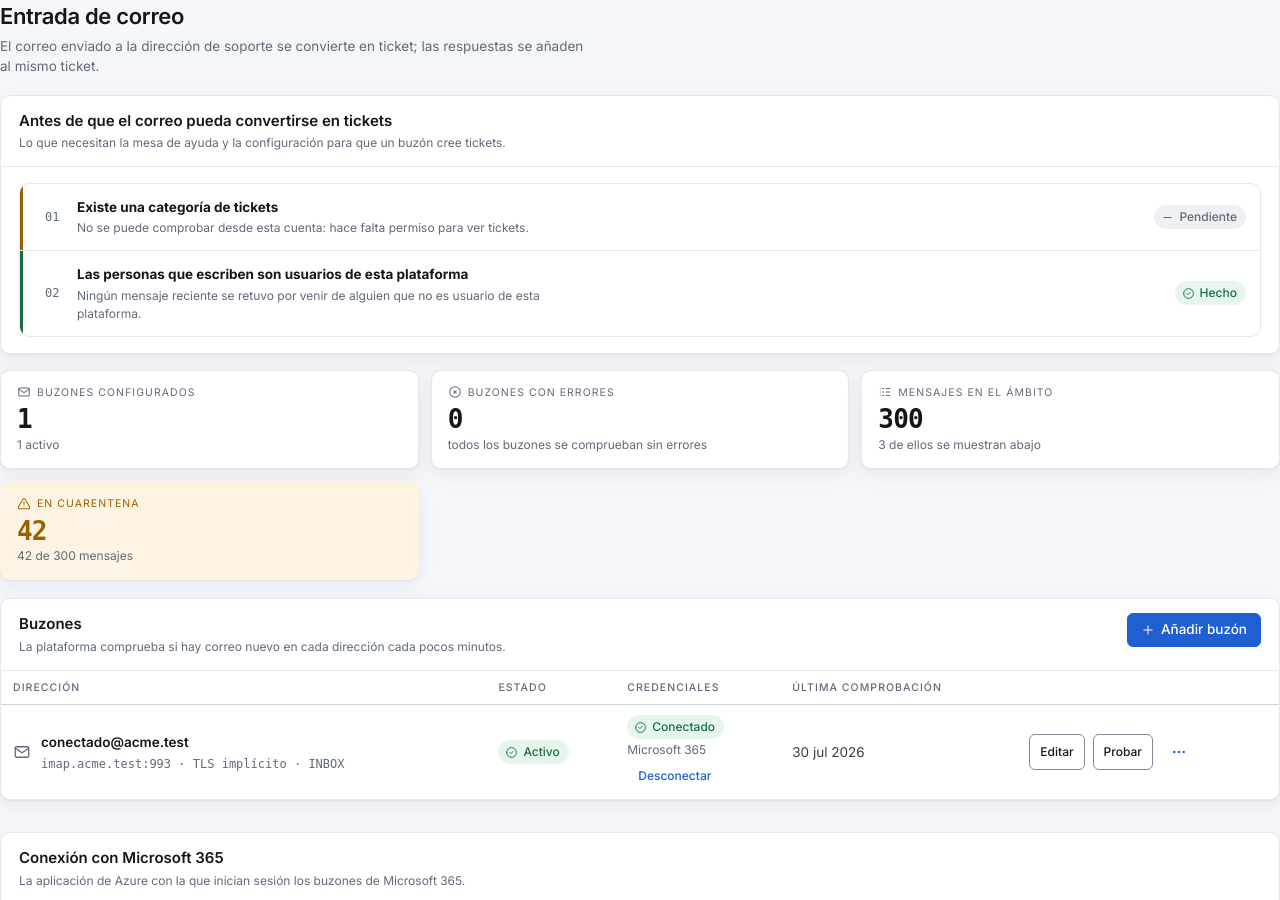
the mailbox list in Spanish › confirms a disconnect in Spanish
Click the button with aria-label "Desconectar: conectado@acme.test". click: click(675, 776)
box: top-left (627, 763), bottom-right (722, 789)
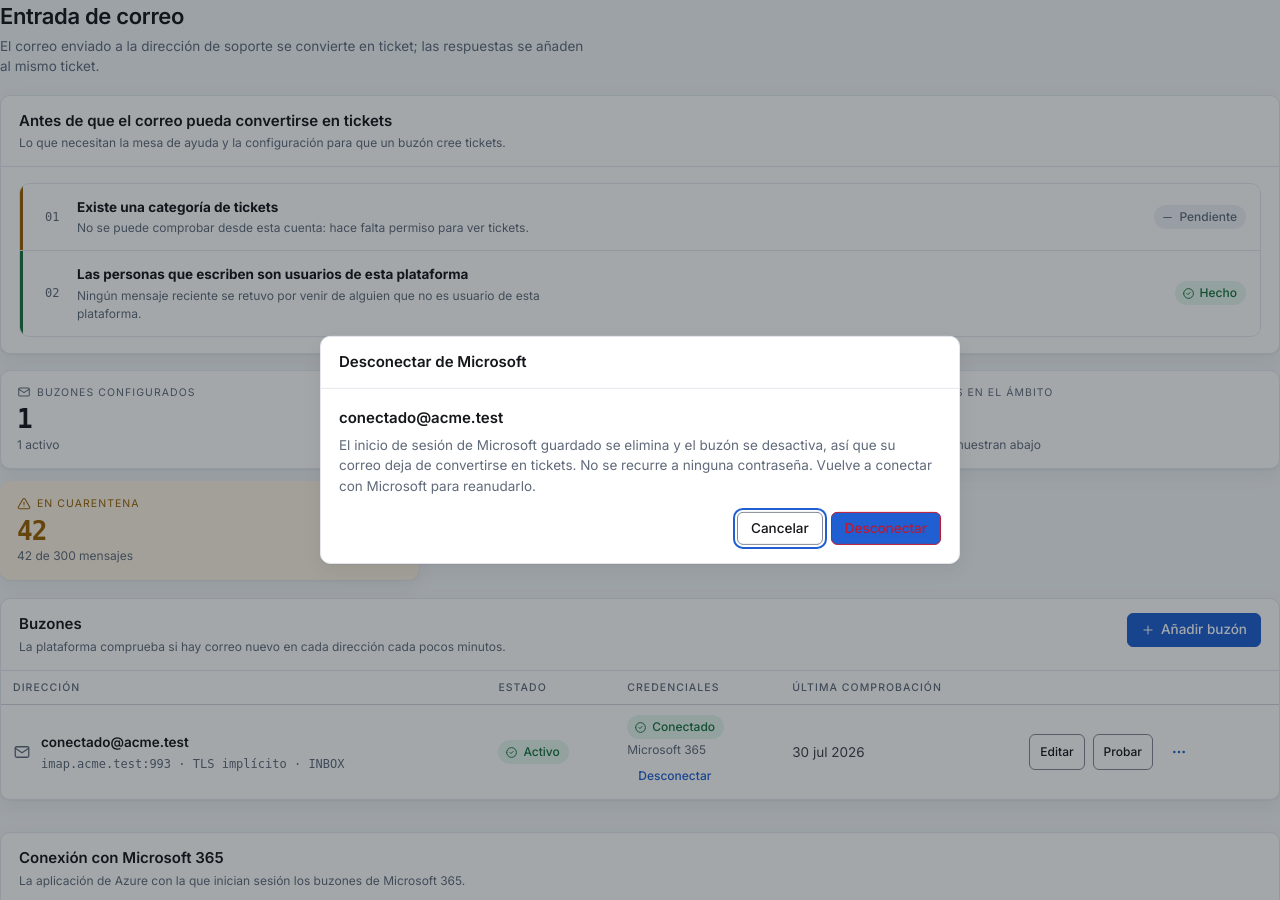
Now the text "El inicio de sesión de Microsoft guardado se elimina" is shown, box top-left (339, 437), bottom-right (932, 493)
Click the button "Desconectar". click: click(886, 528)
box: top-left (831, 512), bottom-right (941, 545)
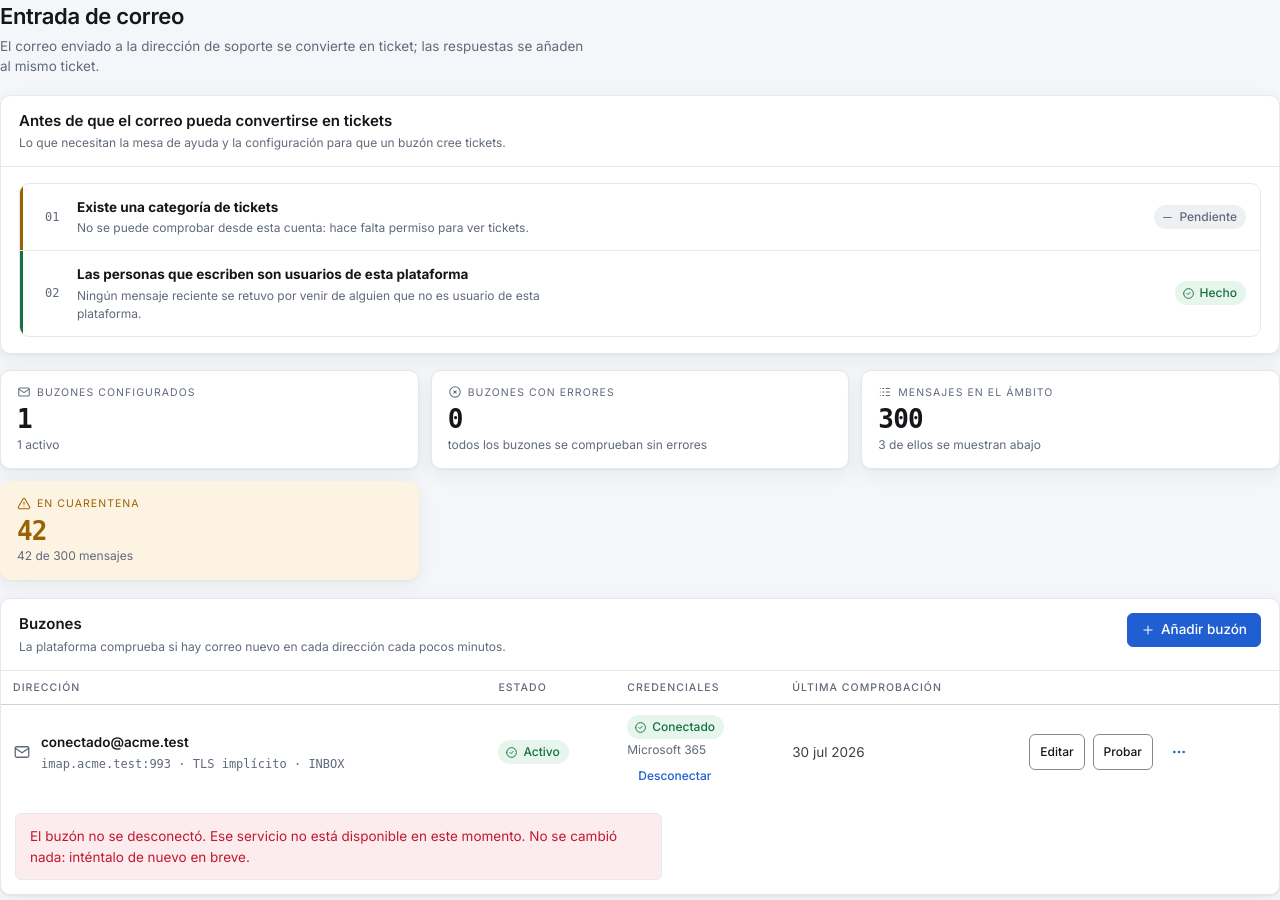
Now the text "El buzón no se desconectó. Ese servicio no está disponible" is shown, box top-left (30, 828), bottom-right (617, 865)
